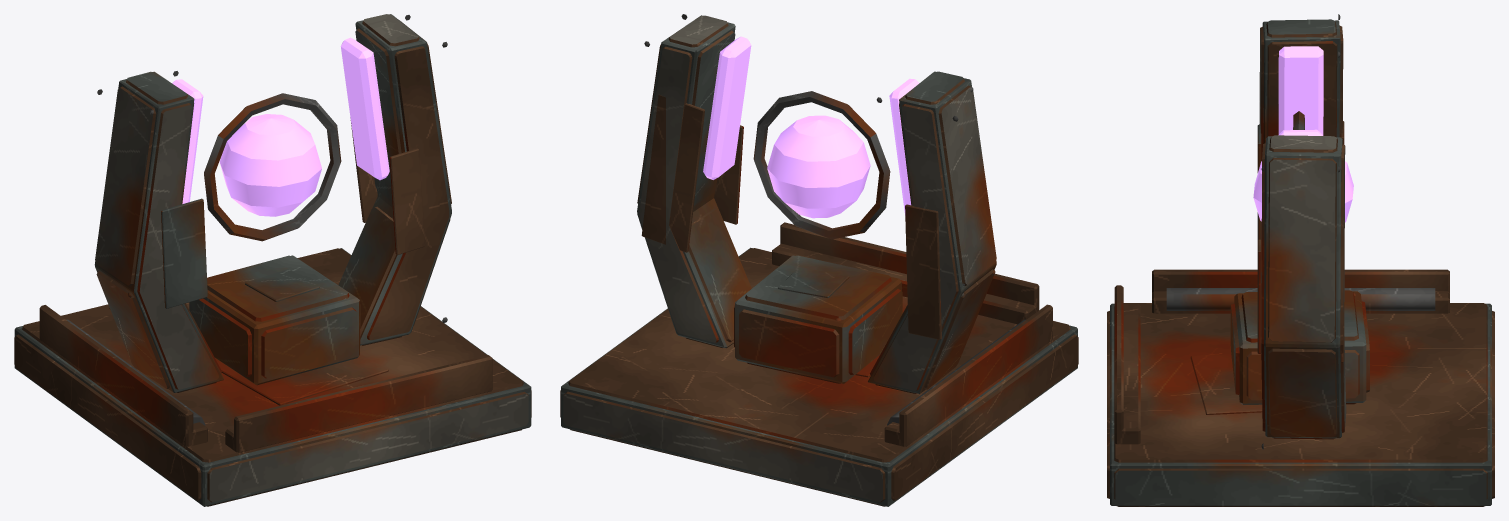
Rendered from R4X_Blink.glb.
3 renders of one model, left to right at view 1: azimuth 30°, elevation 25°; view 2: azimuth 150°, elevation 25°; view 3: azimuth 270°, elevation 25°, orthographic.
Parts seen in each view (by area): view 1: R4X_Blink_Body; view 2: R4X_Blink_Body; view 3: R4X_Blink_Body.
Part boxes in pixels (left/top/right/bottom): R4X_Blink_Body: left=14, top=14, right=531, bottom=506; R4X_Blink_Body: left=560, top=14, right=1078, bottom=506; R4X_Blink_Body: left=1107, top=14, right=1494, bottom=506.
Bounding box in the file's own units: 0.52 × 0.51 × 0.52.
Materials: 5 (4 with a texture image).
